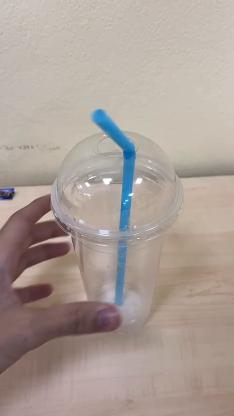Plastic Cup: (52, 130, 184, 330)
